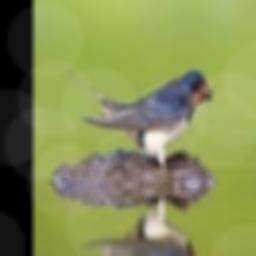Swallow: (61, 69, 212, 171)
